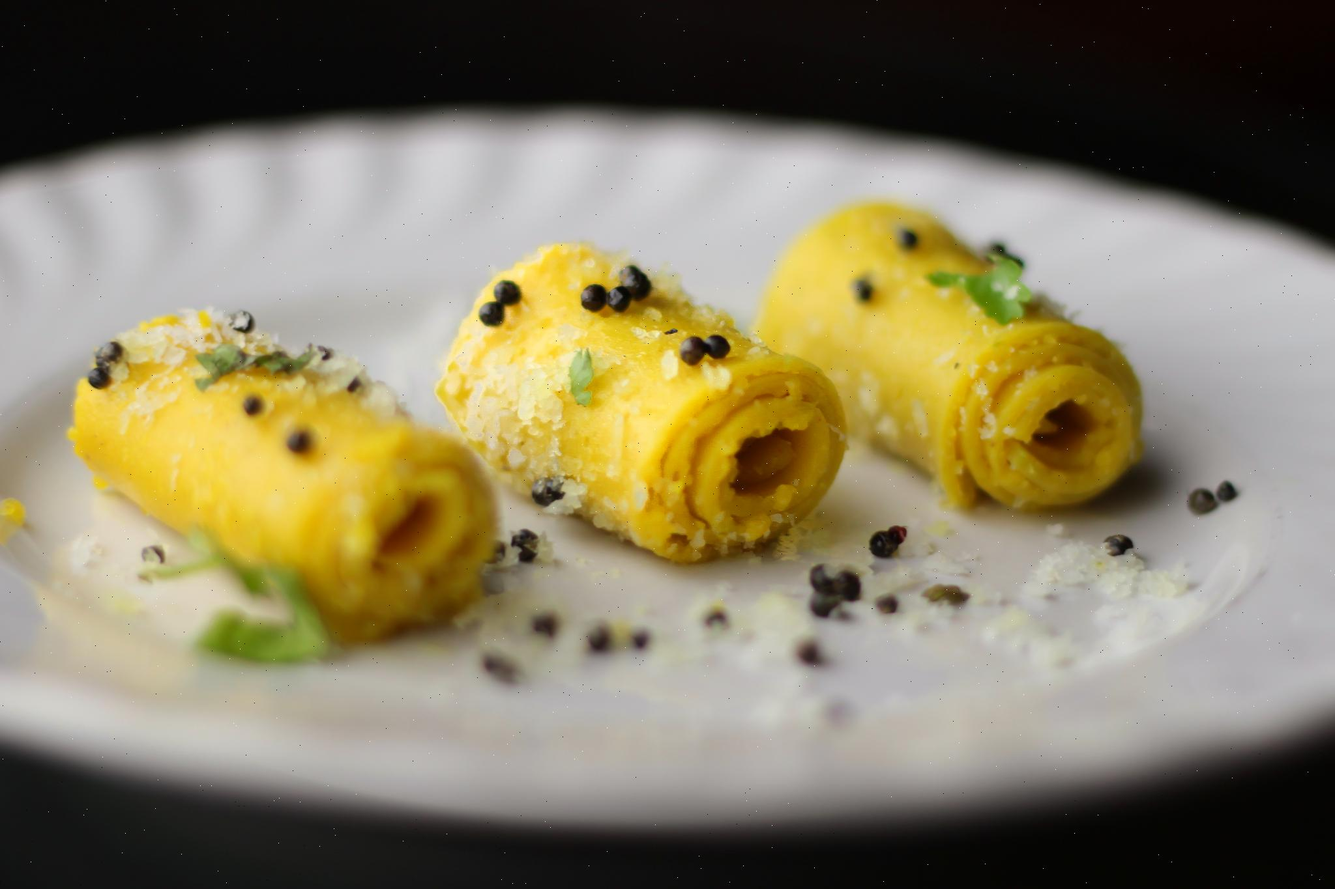khandvi: (32, 241, 1233, 592)
